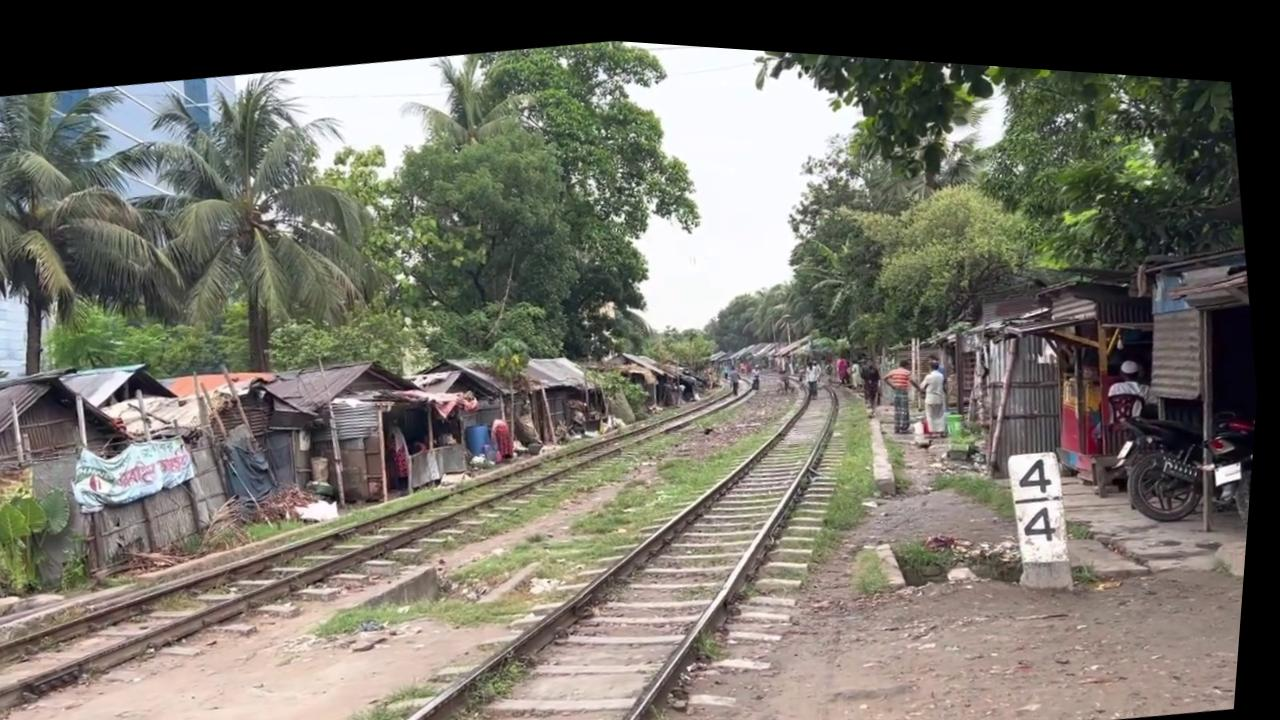Fence: (916, 342, 961, 426)
Garbage: (1176, 290, 1249, 515), (312, 346, 364, 505), (907, 322, 934, 398)
Light-pole: (893, 515, 969, 579)
Motorcycle: (0, 314, 807, 720), (264, 331, 900, 720)
Pothole: (1004, 430, 1089, 580)
Railroad-crossing: (100, 46, 412, 394), (0, 70, 207, 393)
